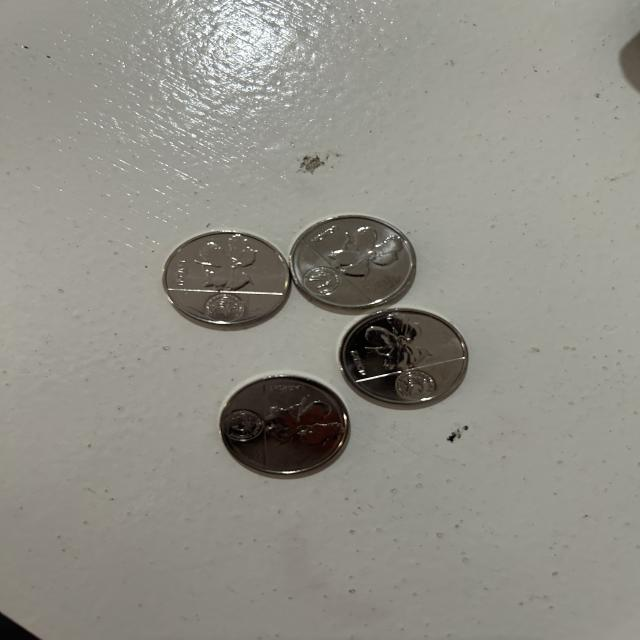25Cent_New_Back: (182, 237, 266, 289), (328, 222, 399, 279), (357, 313, 436, 362), (267, 396, 337, 450)
